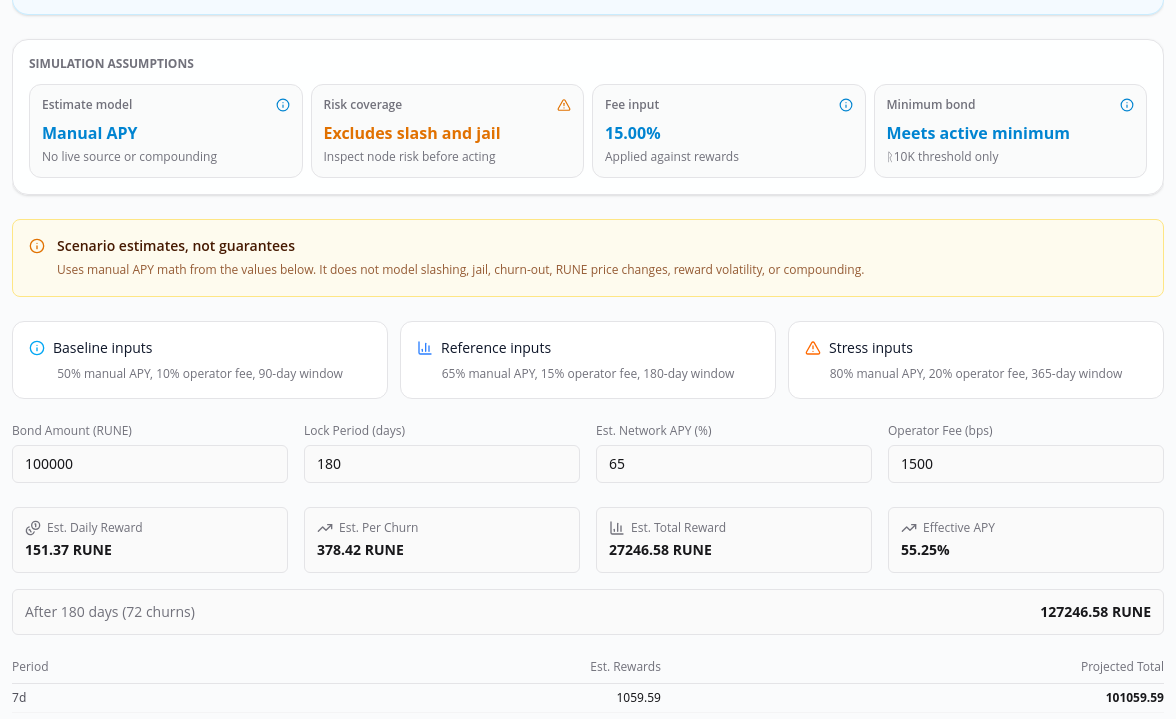
Test: BondSimulator trust copy › keeps preset changes inside the explicit estimate model
(page scrolled)
Click the button "Baseline inputs 50% manual APY, 10% operator fee, 90-day window" at (103, 348), box [12,321,388,399]
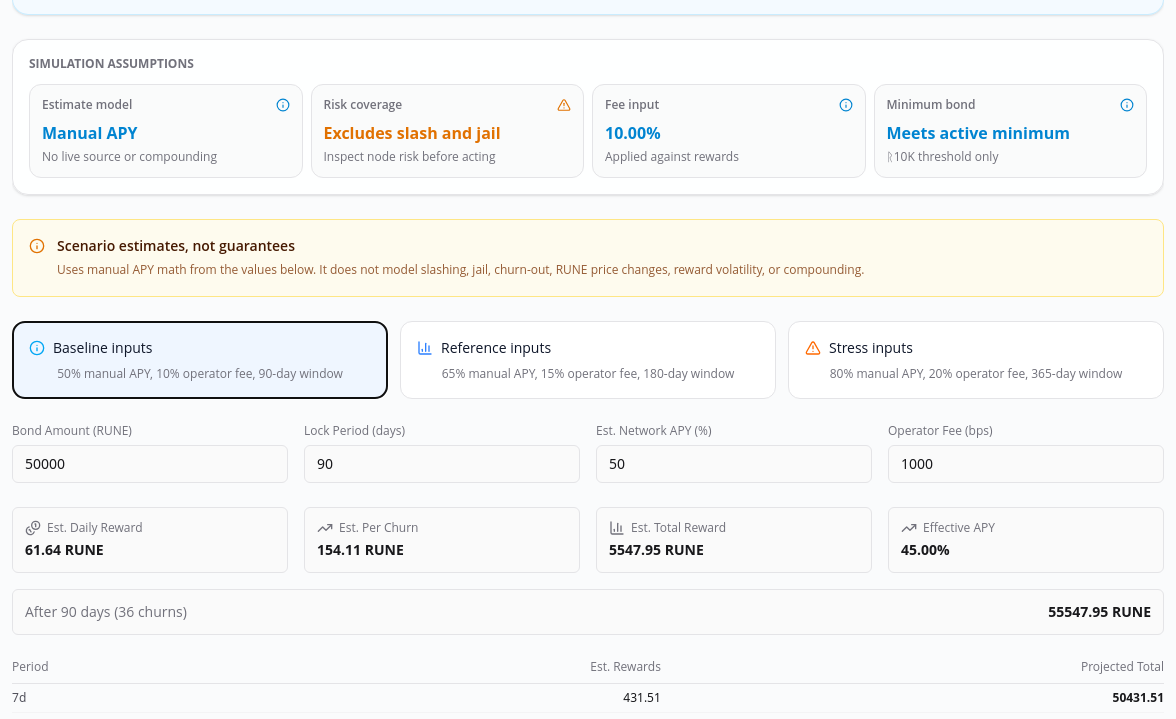
Expected: the number field labelled "Bond Amount (RUNE)" holds "50000", [12,445,288,483]
Expected: the number field labelled "Lock Period (days)" holds "90", [304,445,580,483]
Expected: the number field labelled "Est. Network APY (%)" holds "50", [596,445,872,483]
